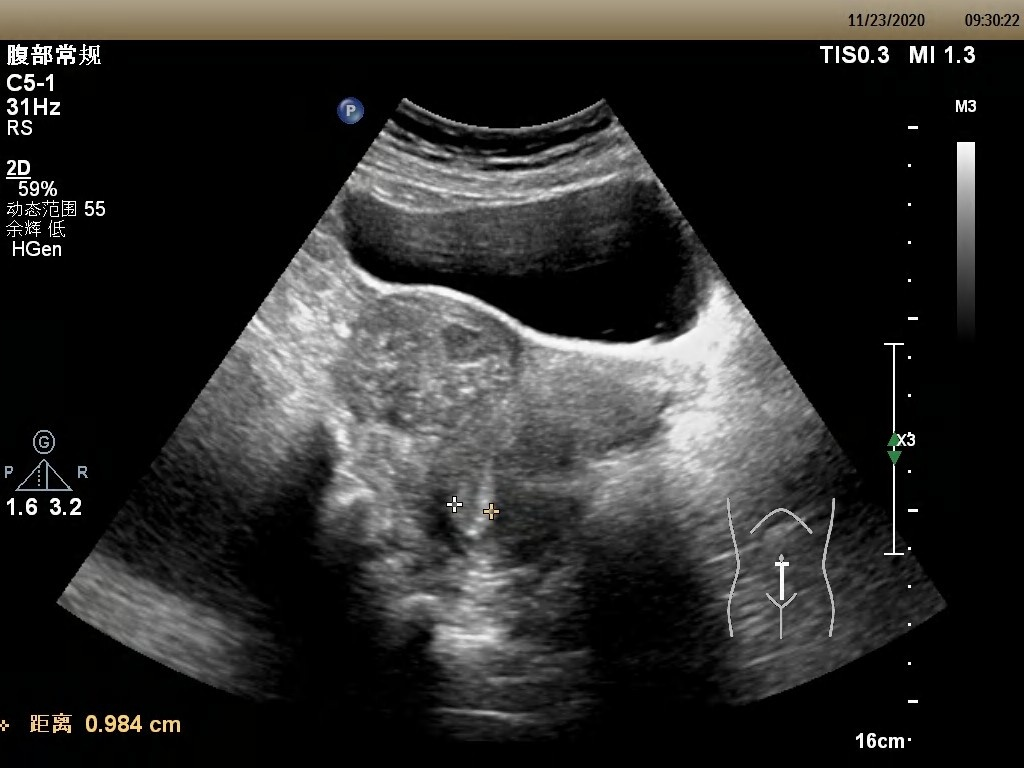肌瘤: (332, 288, 527, 445)
